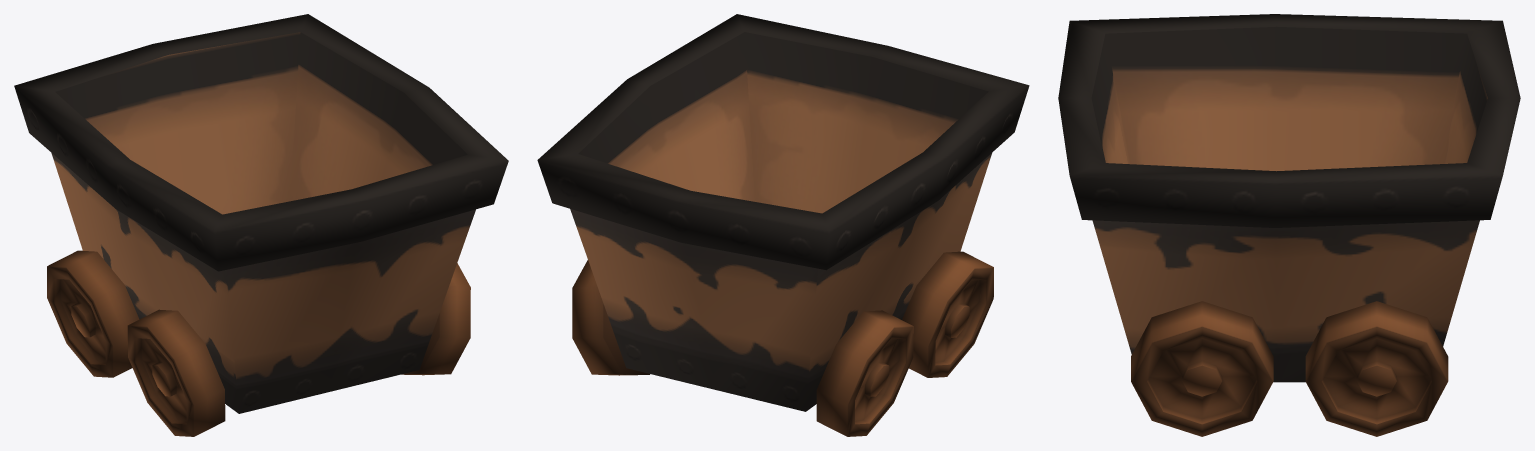
File: MineKart.fbx
3 renders of one model, left to right at view 1: azimuth 30°, elevation 25°; view 2: azimuth 150°, elevation 25°; view 3: azimuth 270°, elevation 25°, orthographic. The views are drawn at different scales.
Parts seen in each view (by area): view 1: Cube, Cylinder_003, Cylinder_002, Cylinder; view 2: Cube, Cylinder_002, Cylinder_003, Cylinder_001; view 3: Cube, Cylinder_001, Cylinder.
Part boxes in pixels (left/top/right/bottom): Cube: left=14, top=14, right=508, bottom=413; Cylinder_003: left=127, top=309, right=225, bottom=436; Cylinder_002: left=47, top=250, right=139, bottom=377; Cylinder: left=401, top=263, right=470, bottom=375; Cube: left=537, top=14, right=1029, bottom=411; Cylinder_002: left=816, top=310, right=913, bottom=436; Cylinder_003: left=902, top=251, right=993, bottom=377; Cylinder_001: left=572, top=260, right=650, bottom=375; Cube: left=1058, top=14, right=1520, bottom=382; Cylinder_001: left=1305, top=301, right=1448, bottom=436; Cylinder: left=1131, top=301, right=1273, bottom=436.
Size of the model in its own units: 1.21 by 0.9048 by 1.39.
